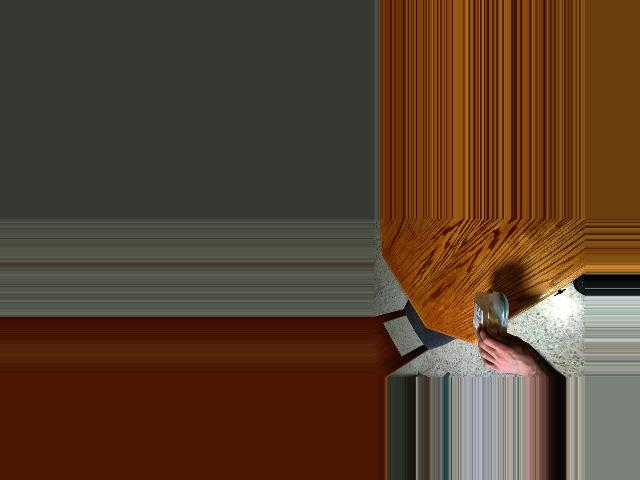cheese: (463, 285, 522, 351)
